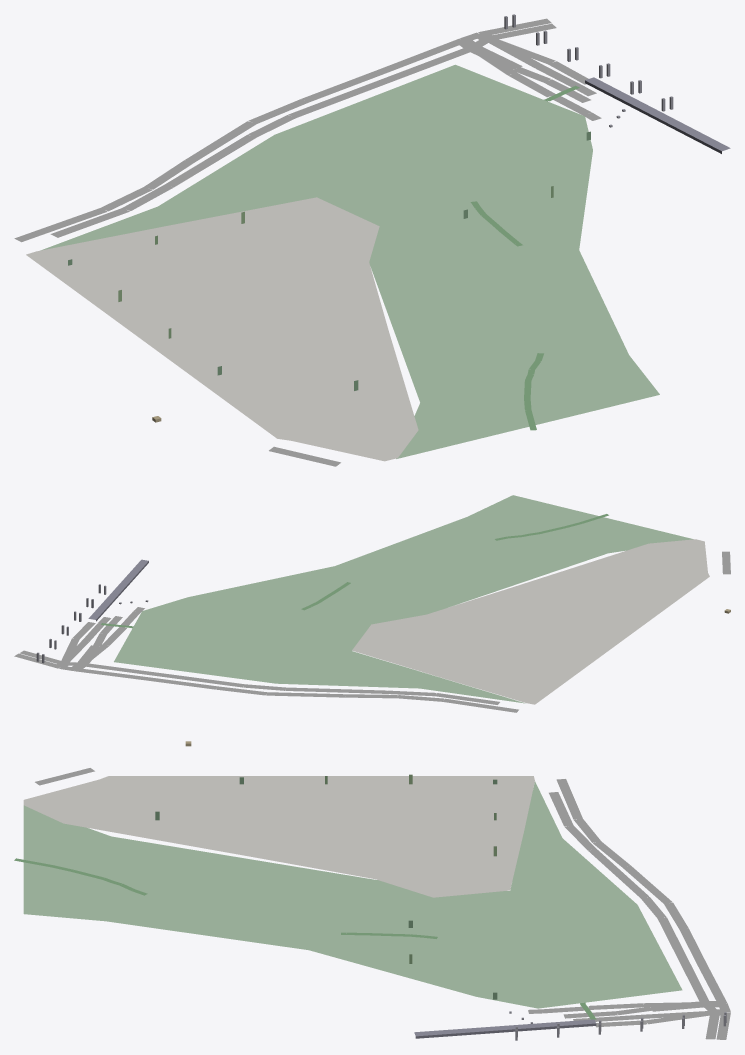
3 renders of one model, top to bottom at view 1: azimuth 30°, elevation 25°; view 2: azimuth 150°, elevation 25°; view 3: azimuth 270°, elevation 25°, orthographic. The views are drawn at different scales.
Size of the model in its own units: 495 by 9.65 by 509.
